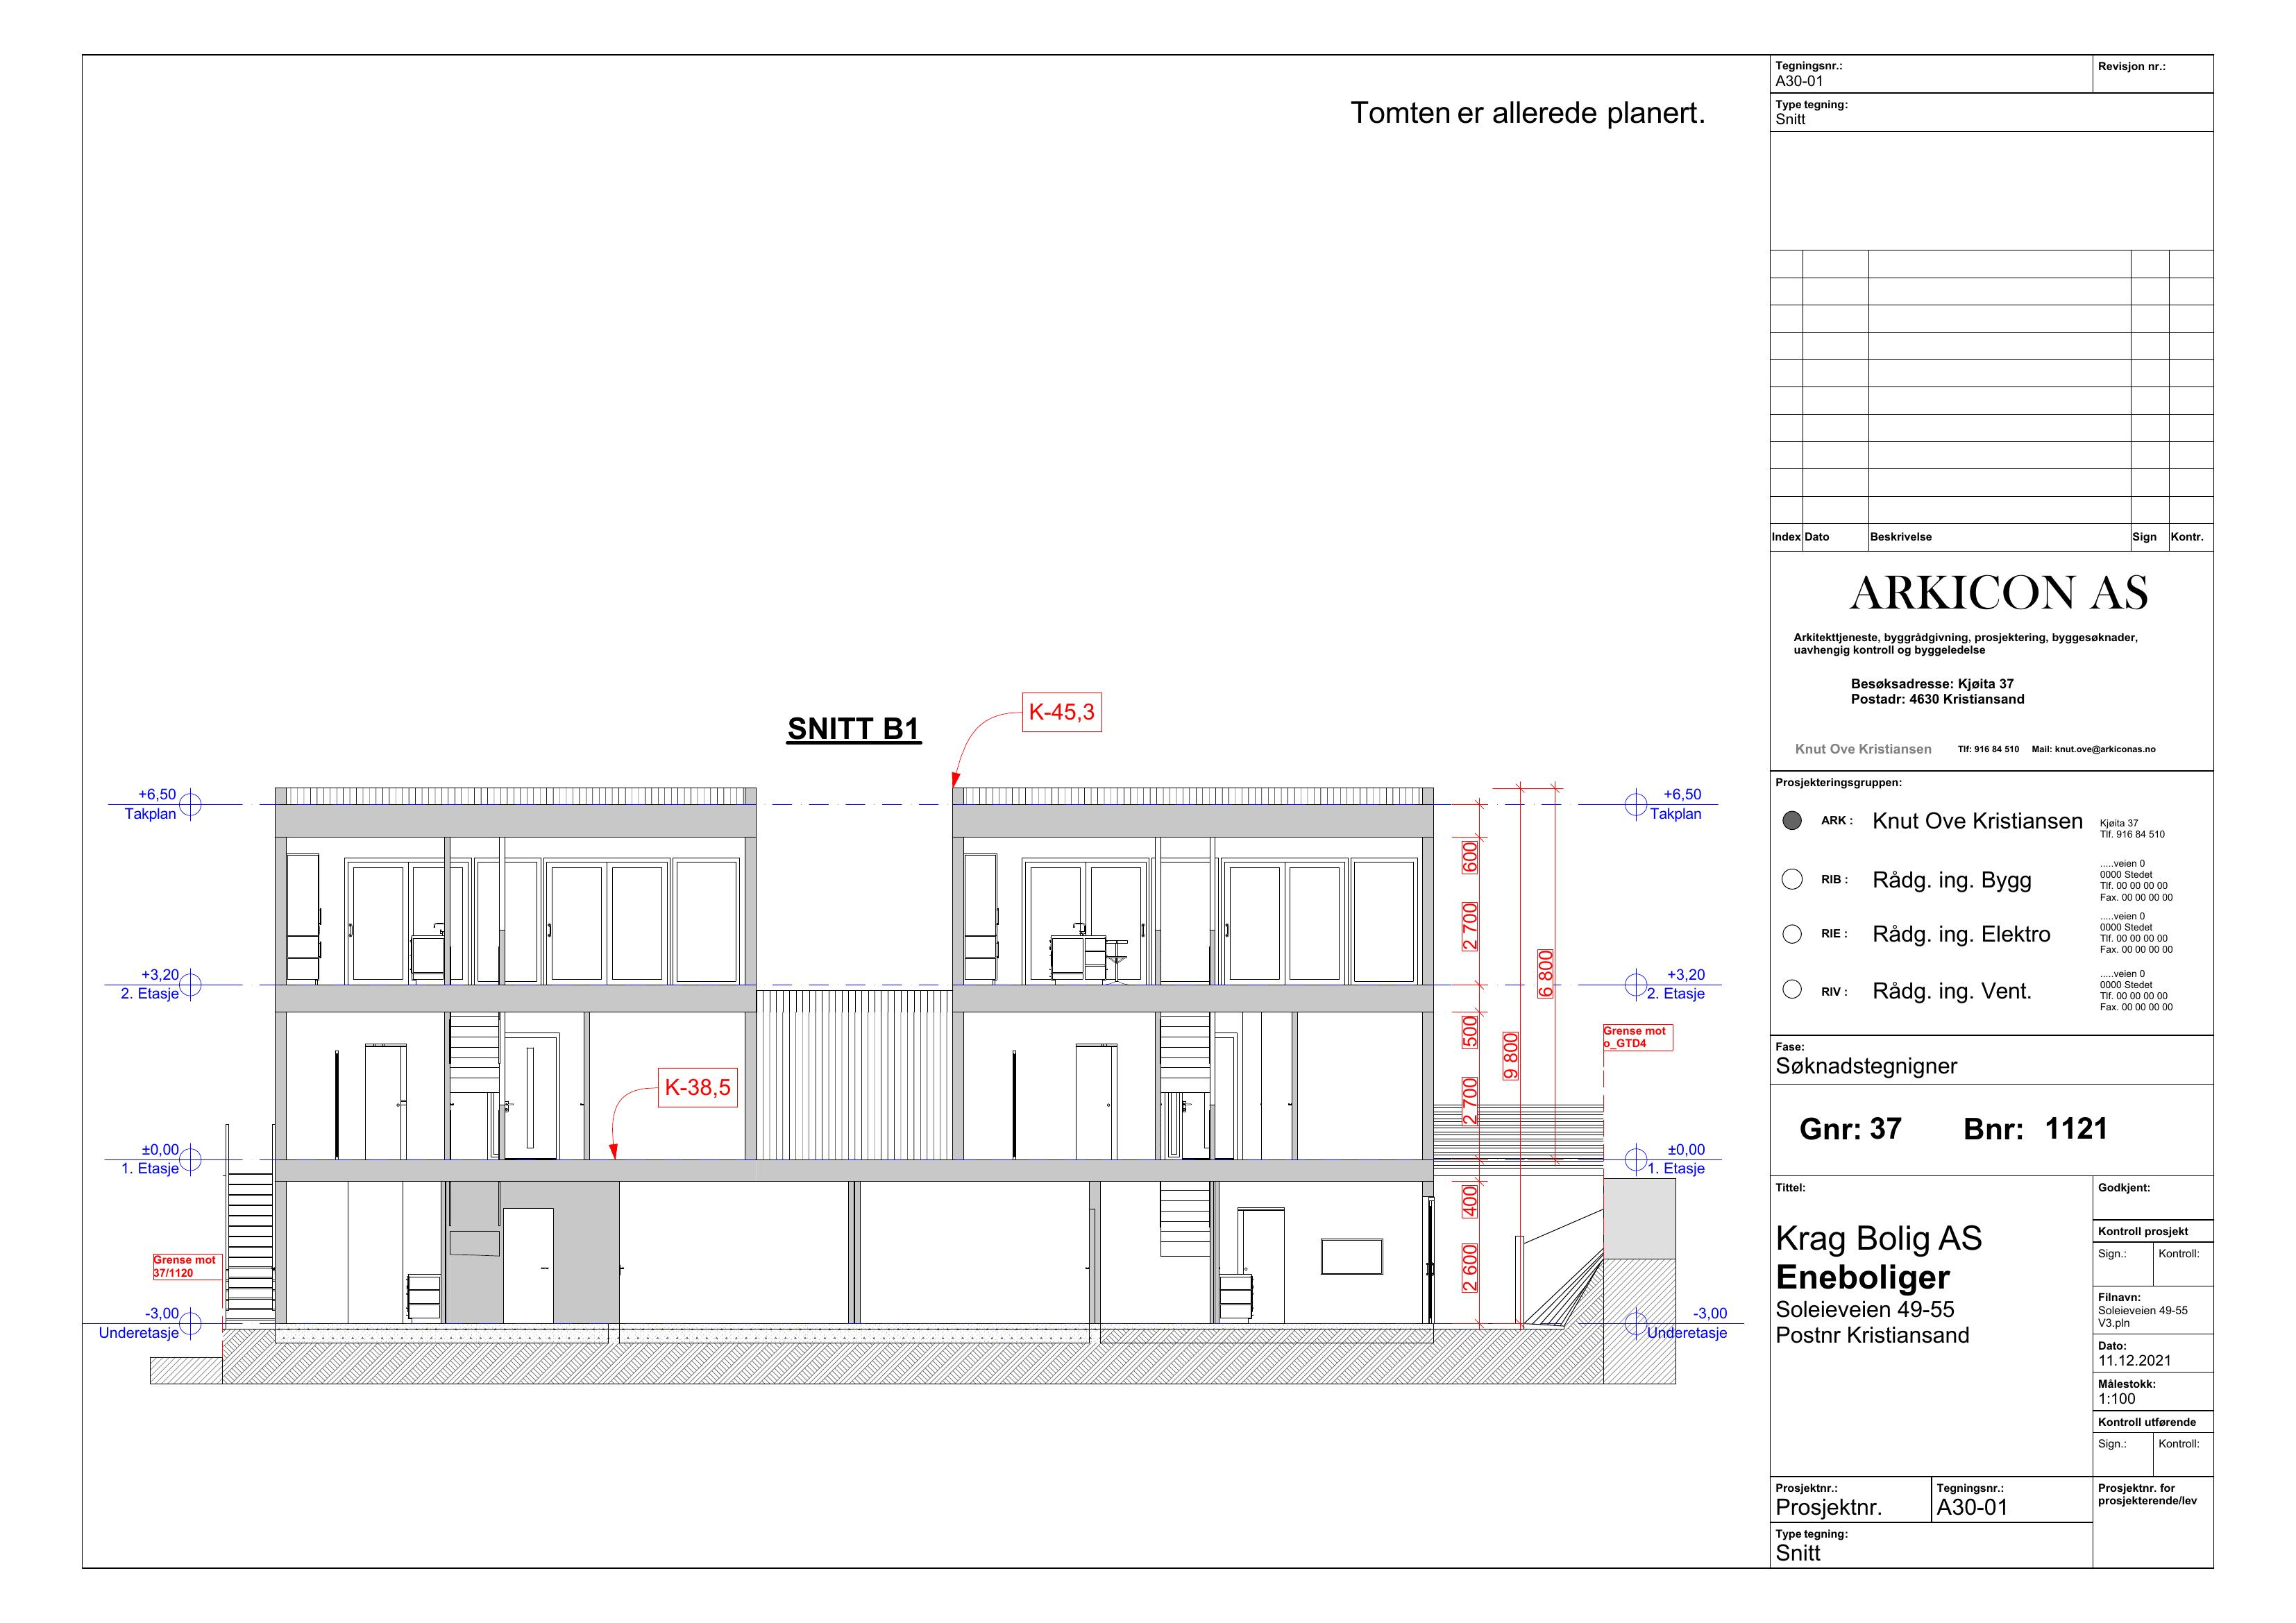snitt: (125, 738, 1727, 1395)
